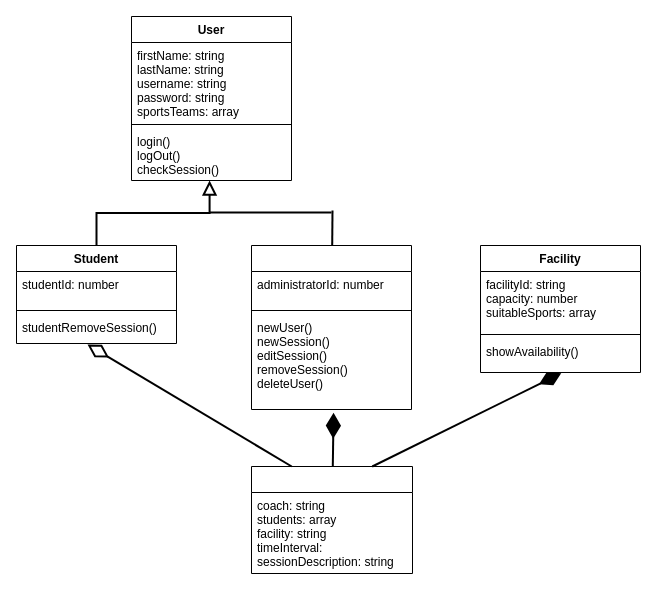
This 657x590 diagram has some shape labels left out. The box of each missing label's shape, as (x1, y1, x2, y2) in pixels:
Coach: (250, 244, 412, 410)
TrainingSession: (250, 466, 412, 574)
